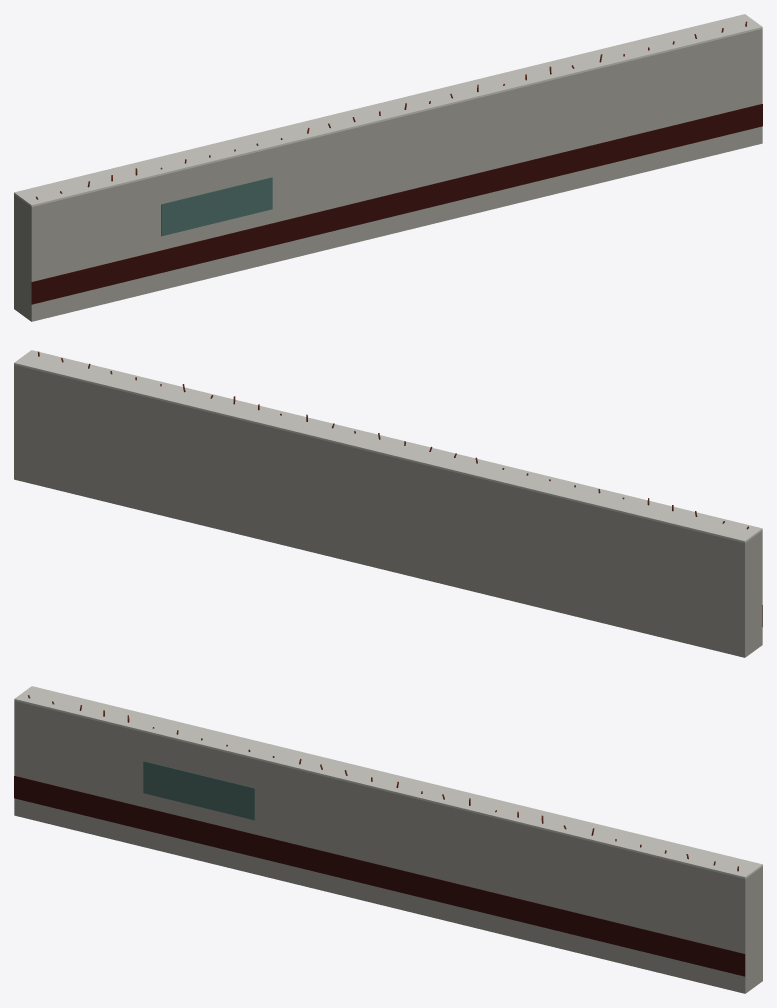
File: tunnel_wall_ew.glb
3 renders of one model, top to bottom at view 1: azimuth 30°, elevation 25°; view 2: azimuth 150°, elevation 25°; view 3: azimuth 330°, elevation 25°, orthographic.
Visible parts, largest first — view 1: wall, waterline, cut, tag; view 2: wall, cut; view 3: wall, waterline, cut, tag.
Boxes of the visible parts, left/top/right/bottom form: wall: left=14, top=29, right=762, bottom=321; waterline: left=31, top=104, right=762, bottom=304; cut: left=14, top=14, right=762, bottom=206; tag: left=161, top=177, right=272, bottom=236; wall: left=14, top=365, right=762, bottom=657; cut: left=14, top=350, right=762, bottom=542; wall: left=14, top=701, right=762, bottom=993; waterline: left=14, top=776, right=745, bottom=976; cut: left=14, top=686, right=762, bottom=878; tag: left=143, top=761, right=254, bottom=820.
Bounding box in the file's own units: 12 × 1.95 × 0.51.
